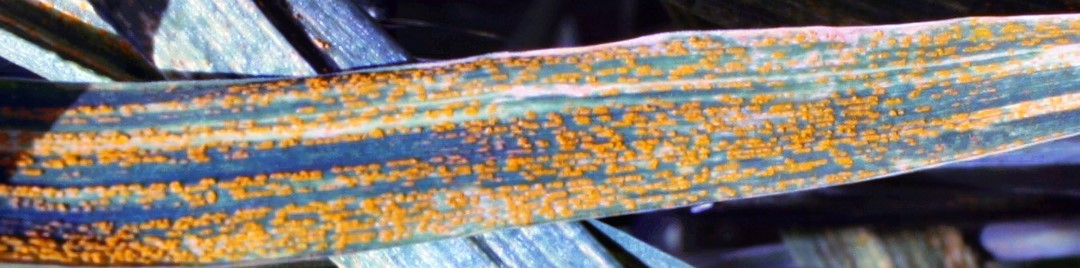Leaf Rust: (60, 10, 1029, 267)
